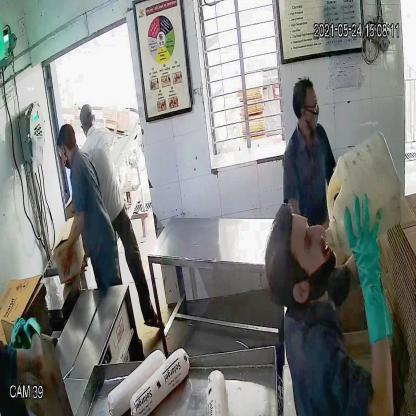goggles: (294, 94, 320, 116)
no_goggles: (288, 207, 325, 263)
